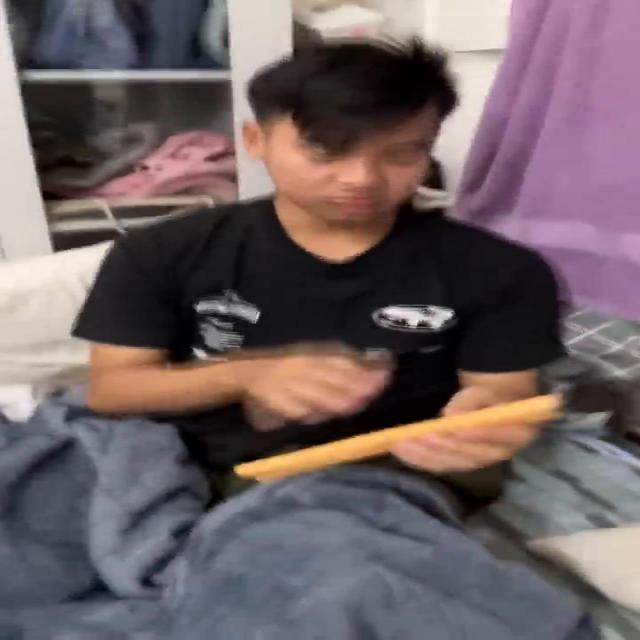hammer: (237, 355, 608, 484)
